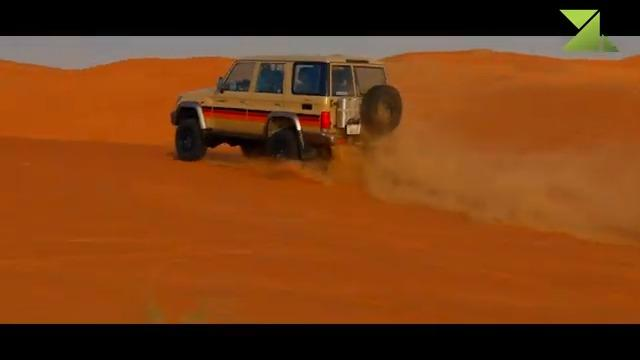MIL_HMMWV: (171, 54, 402, 164)
